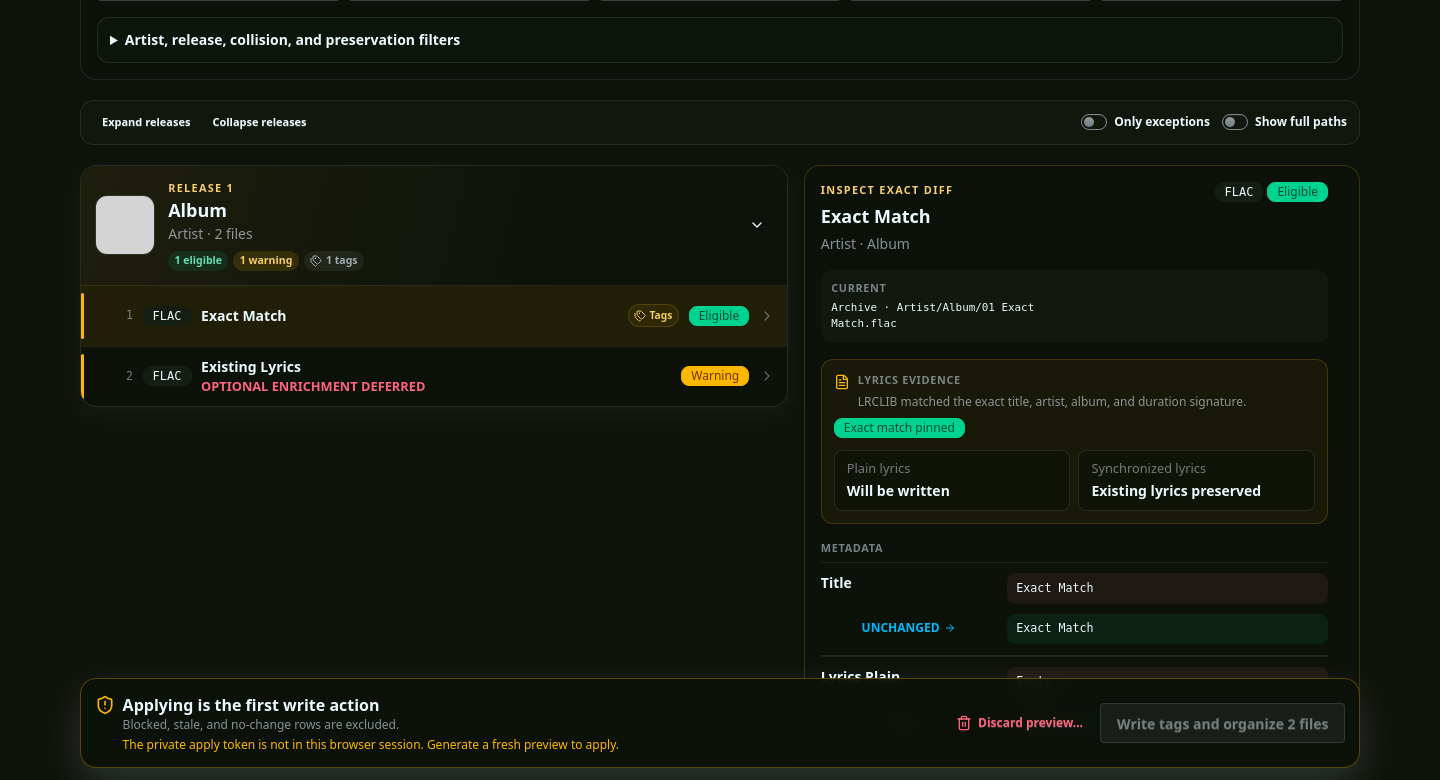
Test case: LibraryManagementPreviewPage › counts only real tag changes and explains exact and rejected lyrics evidence
(page scrolled)
expect the text "1 tags" is shown: met, box [304,251,364,271]
expect the text "Exact match pinned" is shown: met, box [834,418,965,438]
Click the button with aria-label "Inspect exact diff for Existing Lyrics" at coordinates (167, 376), box [81,346,787,406]
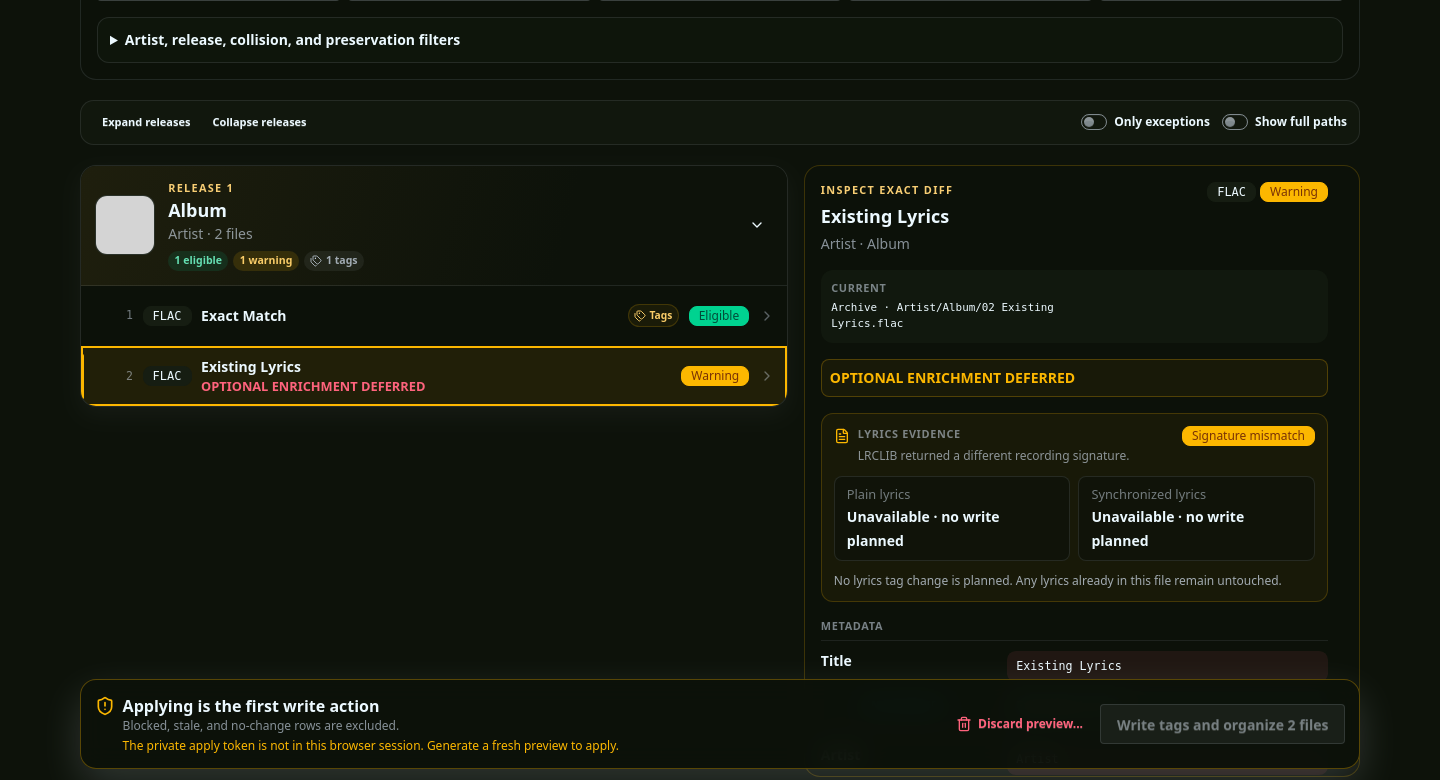
expect the text "Signature mismatch" is shown: met, box [1182,426,1315,446]
expect the text "Any lyrics already in this file remain untouched" is shown: met, box [834,572,1282,589]
